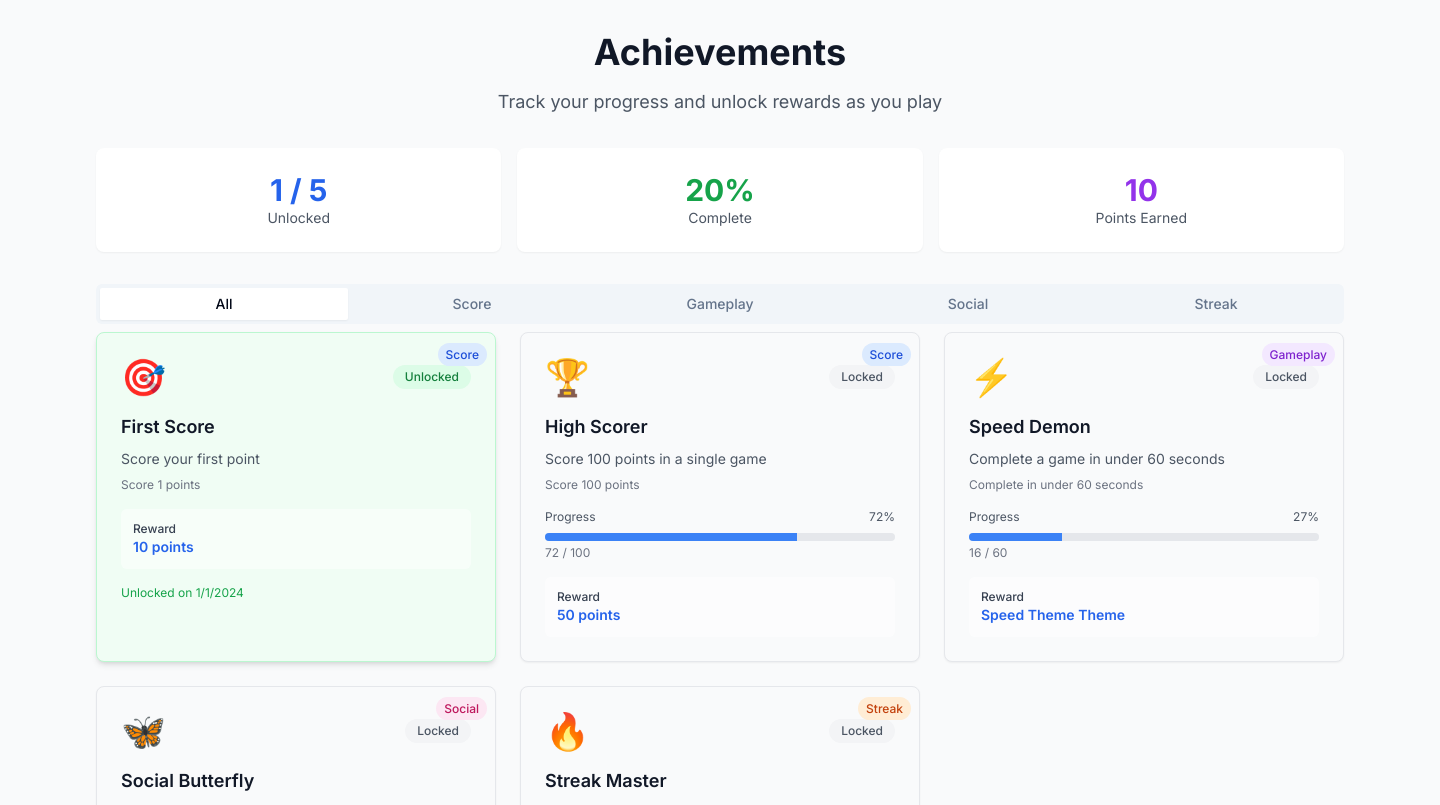
Test: AchievementsPage › Category Filtering › should filter achievements by gameplay category
Expected: the heading "Speed Demon" is shown, top-left (969, 416), bottom-right (1091, 437)
Click the tab "Gameplay".
click(720, 304)  # box top-left (596, 288), bottom-right (844, 320)
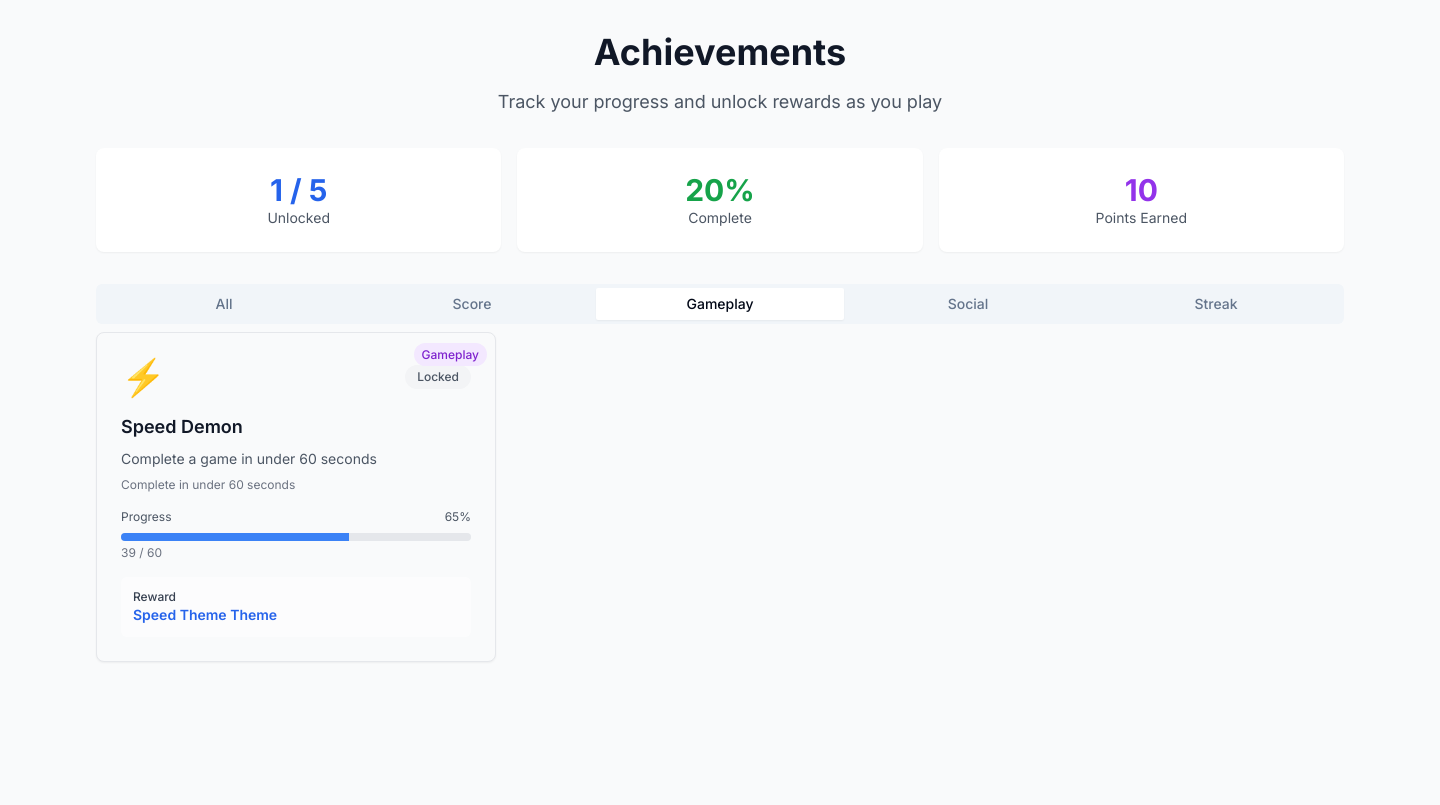
Expected: the heading "Speed Demon" is shown, top-left (121, 416), bottom-right (243, 437)
Result: the heading "First Score" is gone
